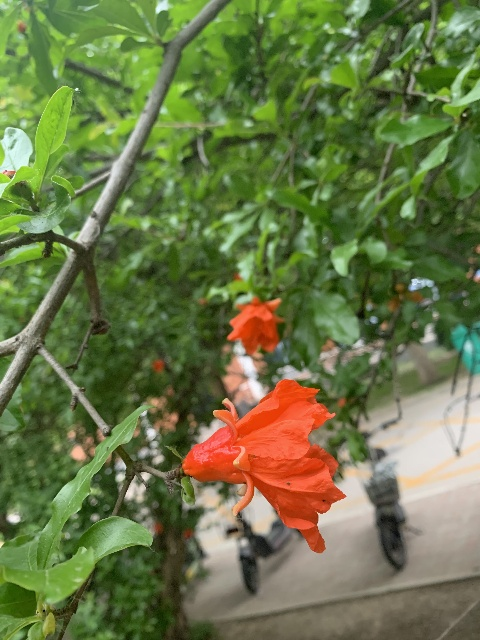flower: (182, 379, 347, 552), (226, 296, 284, 355)
